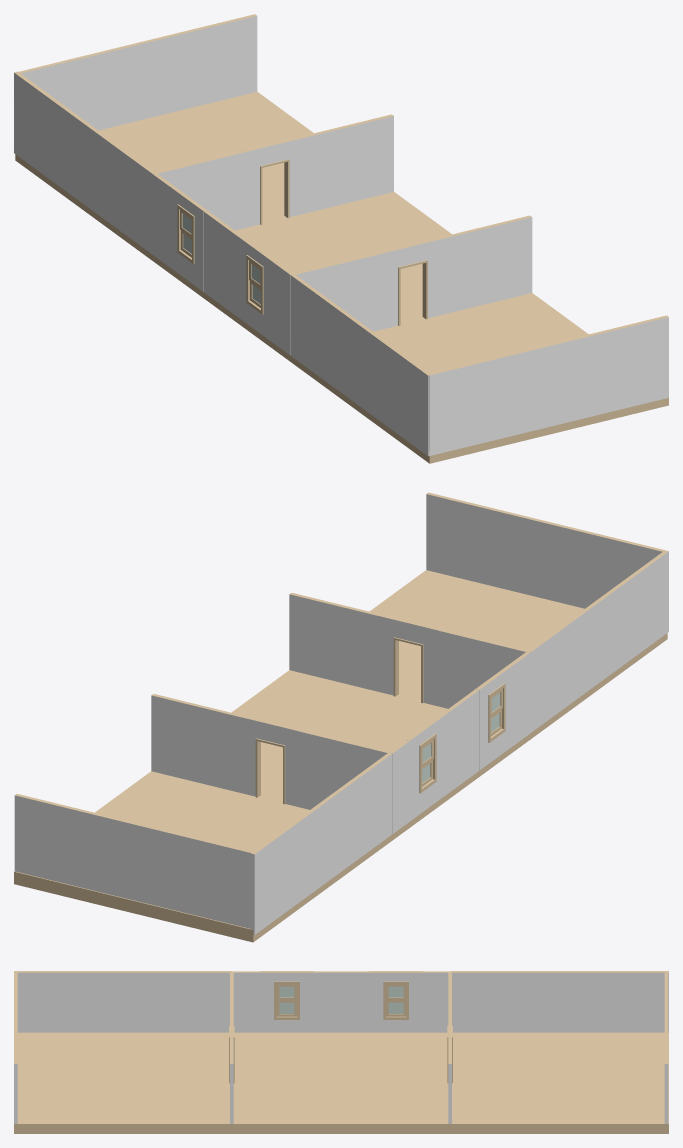
The model's file is Stage3.gltf.
3 renders of one model, top to bottom at view 1: azimuth 30°, elevation 25°; view 2: azimuth 150°, elevation 25°; view 3: azimuth 270°, elevation 25°, orthographic. The views are drawn at different scales.
Visible parts, largest first — view 1: 壁.002, 壁2.005, ドア壁2.003, ドア壁.002, サイド部屋1.002, 壁2.004, 窓壁2.003, 壁2.003, センター部屋.003, サイド部屋2.002; view 2: 壁2.005, 壁.002, ドア壁2.003, ドア壁.002, サイド部屋2.002, 壁2.003, 窓壁2.003, 壁2.004, センター部屋.003, サイド部屋1.002; view 3: センター部屋.003, サイド部屋2.002, サイド部屋1.002, 窓壁2.003, 壁2.003, 壁2.004, 壁2.005, ドア壁.002, ドア壁2.003, 壁.002.
Boxes of the visible parts, left/top/right/bottom form: 壁.002: left=429, top=315, right=668, bottom=455; 壁2.005: left=17, top=14, right=257, bottom=130; ドア壁2.003: left=293, top=215, right=532, bottom=331; ドア壁.002: left=155, top=114, right=393, bottom=230; サイド部屋1.002: left=291, top=293, right=668, bottom=463; 壁2.004: left=290, top=274, right=431, bottom=456; 窓壁2.003: left=152, top=173, right=293, bottom=354; 壁2.003: left=14, top=71, right=155, bottom=253; センター部屋.003: left=153, top=192, right=451, bottom=362; サイド部屋2.002: left=15, top=91, right=313, bottom=261; 壁2.005: left=14, top=794, right=255, bottom=928; 壁.002: left=426, top=492, right=664, bottom=608; ドア壁2.003: left=289, top=593, right=527, bottom=708; ドア壁.002: left=151, top=694, right=389, bottom=809; サイド部屋2.002: left=14, top=771, right=391, bottom=942; 壁2.003: left=251, top=752, right=392, bottom=934; 窓壁2.003: left=389, top=651, right=530, bottom=833; 壁2.004: left=527, top=550, right=668, bottom=732; センター部屋.003: left=231, top=670, right=529, bottom=840; サイド部屋1.002: left=369, top=570, right=667, bottom=739; センター部屋.003: left=232, top=1032, right=450, bottom=1133; サイド部屋2.002: left=450, top=1032, right=668, bottom=1133; サイド部屋1.002: left=14, top=1032, right=232, bottom=1133; 窓壁2.003: left=232, top=971, right=450, bottom=1032; 壁2.003: left=450, top=971, right=668, bottom=1032; 壁2.004: left=14, top=971, right=232, bottom=1032; 壁2.005: left=664, top=971, right=668, bottom=1123; ドア壁.002: left=447, top=972, right=452, bottom=1123; ドア壁2.003: left=229, top=972, right=234, bottom=1123; 壁.002: left=14, top=972, right=17, bottom=1123.
Size of the model in its own units: 2.53 by 0.8837 by 7.5.
